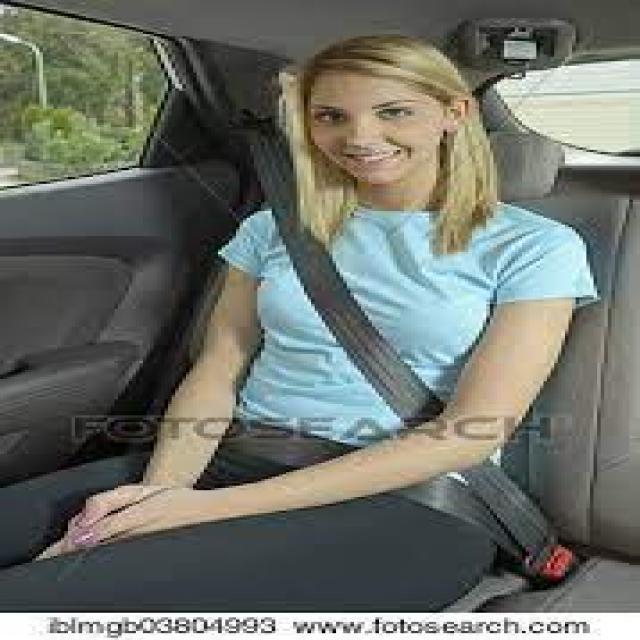seatbelt: (218, 100, 579, 579)
